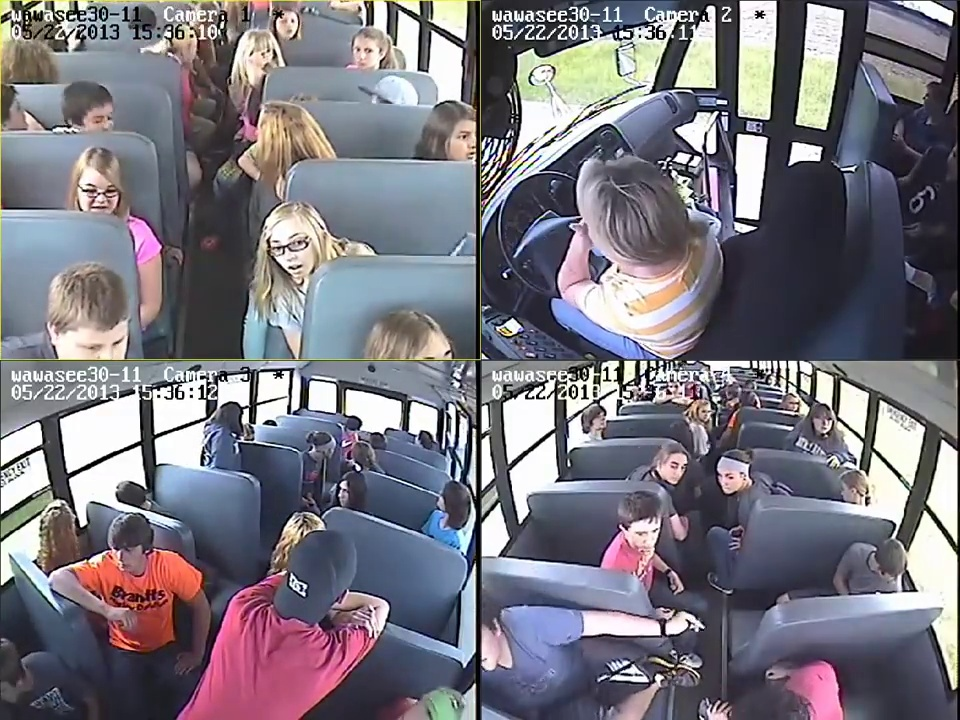face: (60, 321, 131, 364), (268, 224, 313, 279), (75, 169, 125, 213), (625, 518, 663, 553), (110, 537, 145, 573), (445, 118, 475, 157), (660, 451, 688, 485), (348, 40, 380, 69), (334, 477, 359, 509), (716, 465, 742, 495), (82, 104, 113, 129), (276, 14, 298, 39), (815, 411, 833, 436), (588, 413, 607, 429), (786, 393, 801, 408), (697, 406, 710, 421)
